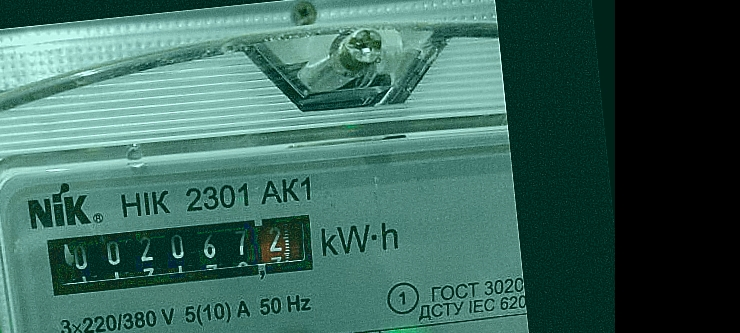0: (165, 229, 186, 259), (69, 241, 89, 272), (102, 236, 122, 266)
2: (135, 232, 155, 263), (264, 222, 284, 253)
6: (198, 229, 219, 259)
7: (231, 226, 250, 257)
screen: (31, 198, 330, 309)
